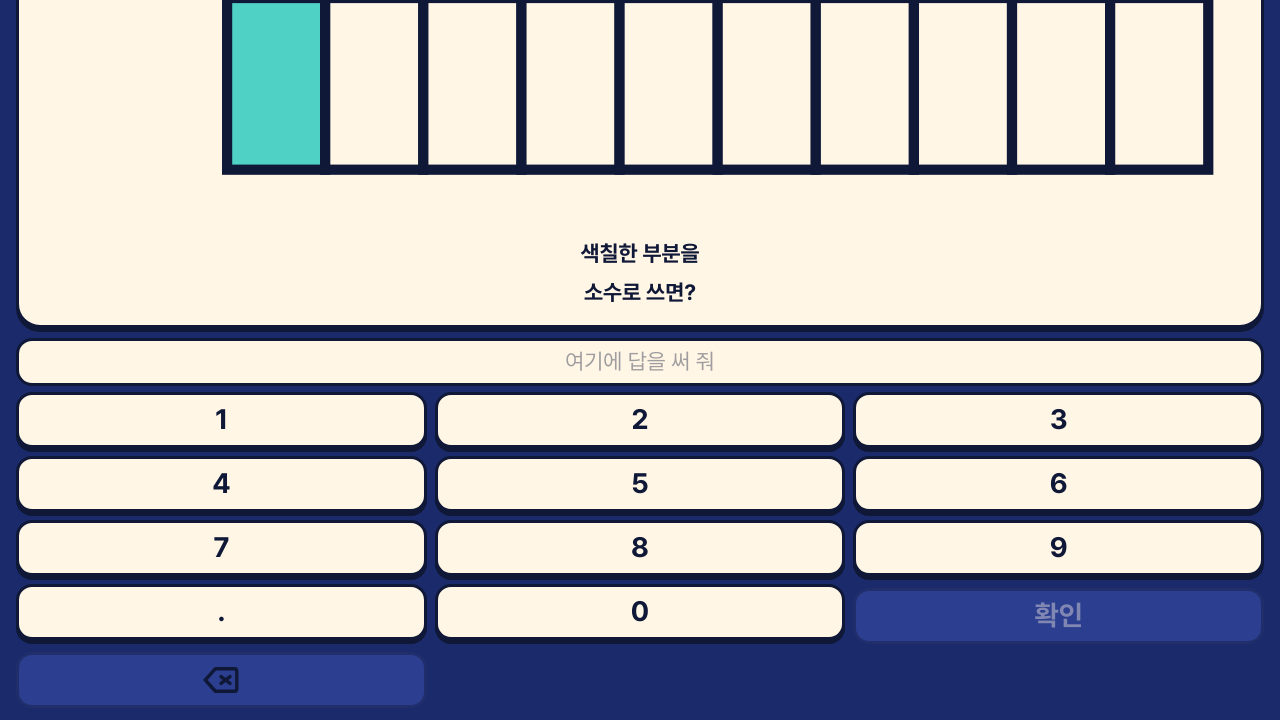
StageScreen — 소수 입력 (W7) › 소수점 키로 0.5 같은 답을 넣을 수 있다
The image size is (1280, 720).
(page scrolled)
Click the button "0": [640, 612] box top-left (435, 584), bottom-right (845, 640)
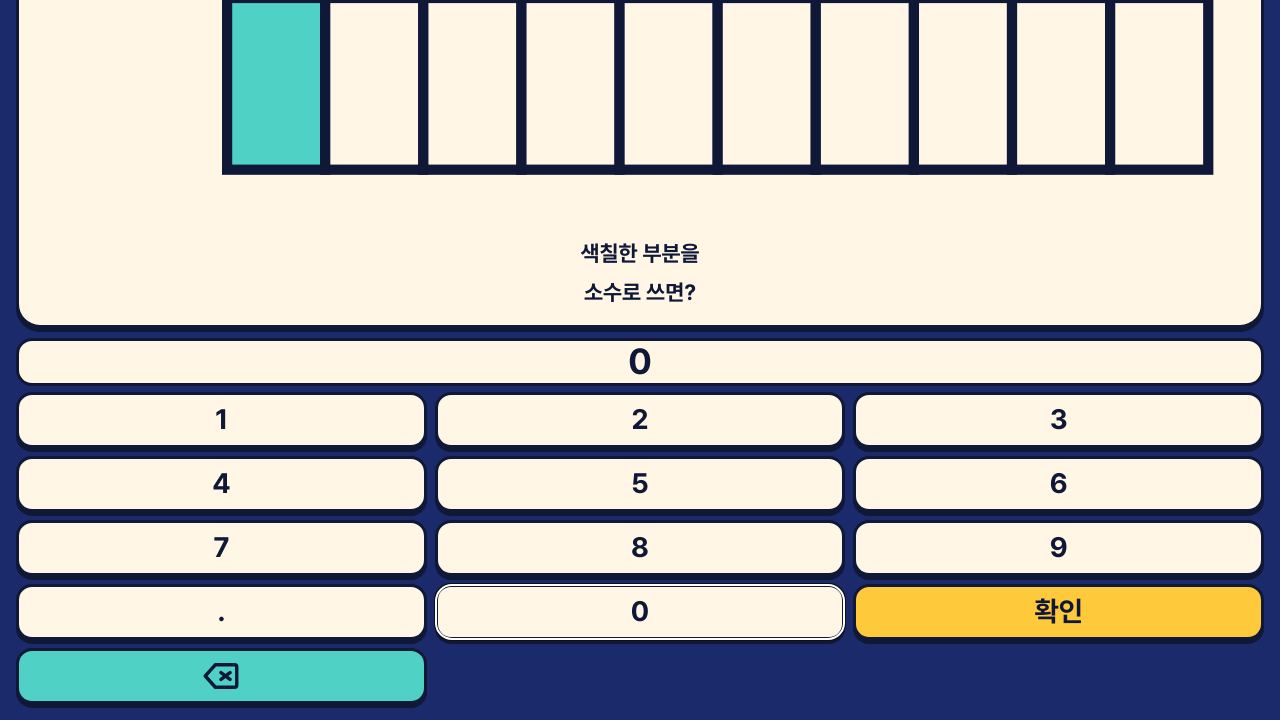
Click the button named "소수점": [221, 612] box top-left (16, 584), bottom-right (427, 640)
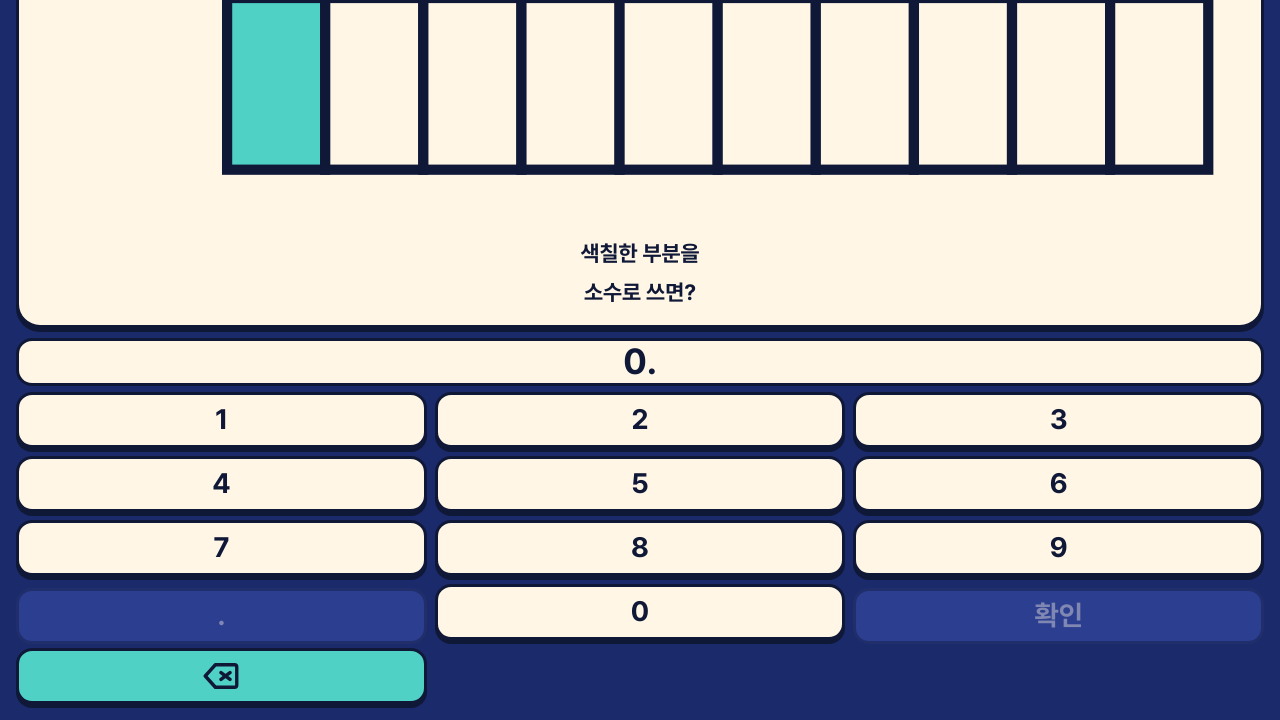
Click the button "1": [221, 420] box top-left (16, 392), bottom-right (427, 448)
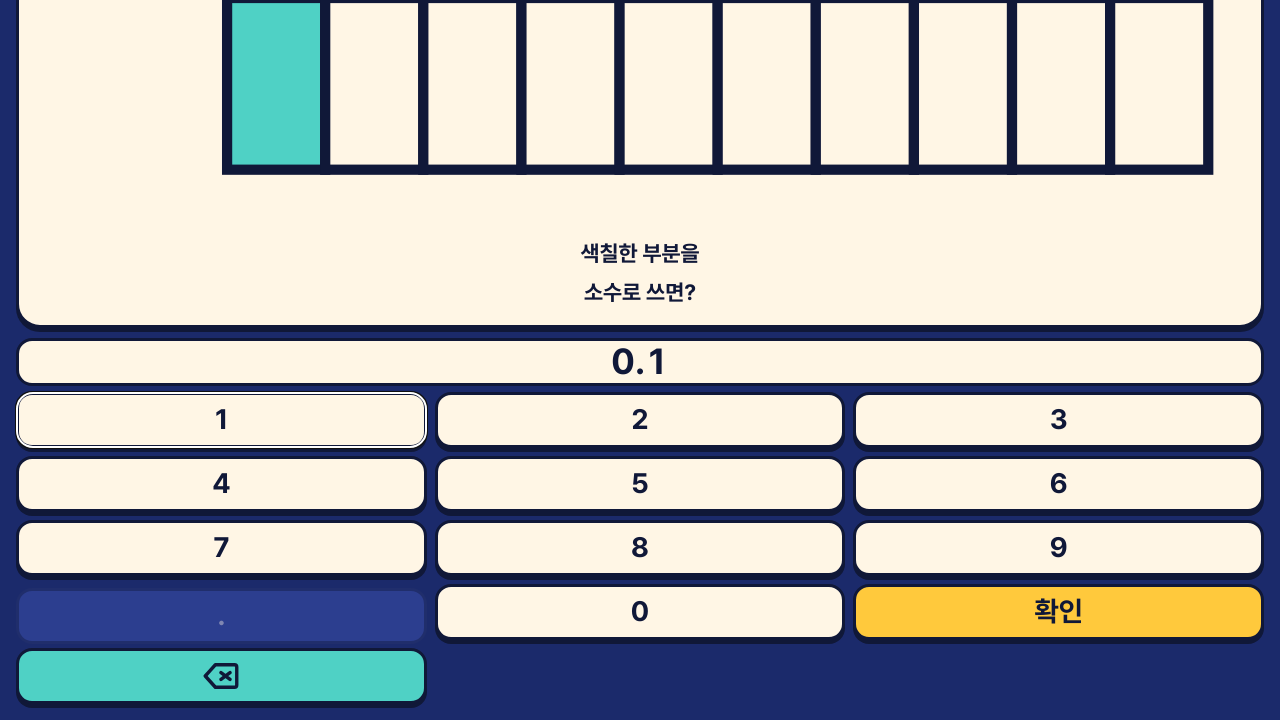
Click the button "확인": [1059, 612] box top-left (853, 584), bottom-right (1264, 640)
(page scrolled)
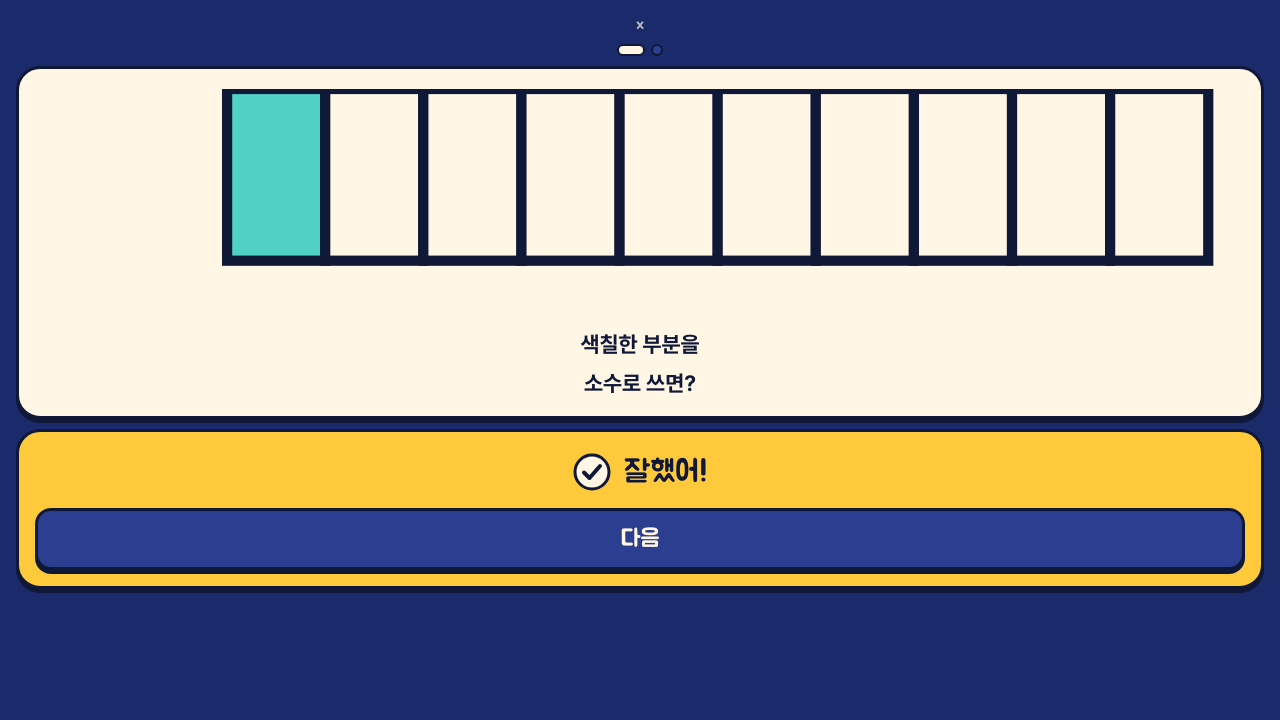
Expected: the text "잘했어!" is shown, top-left (624, 454), bottom-right (708, 490)
